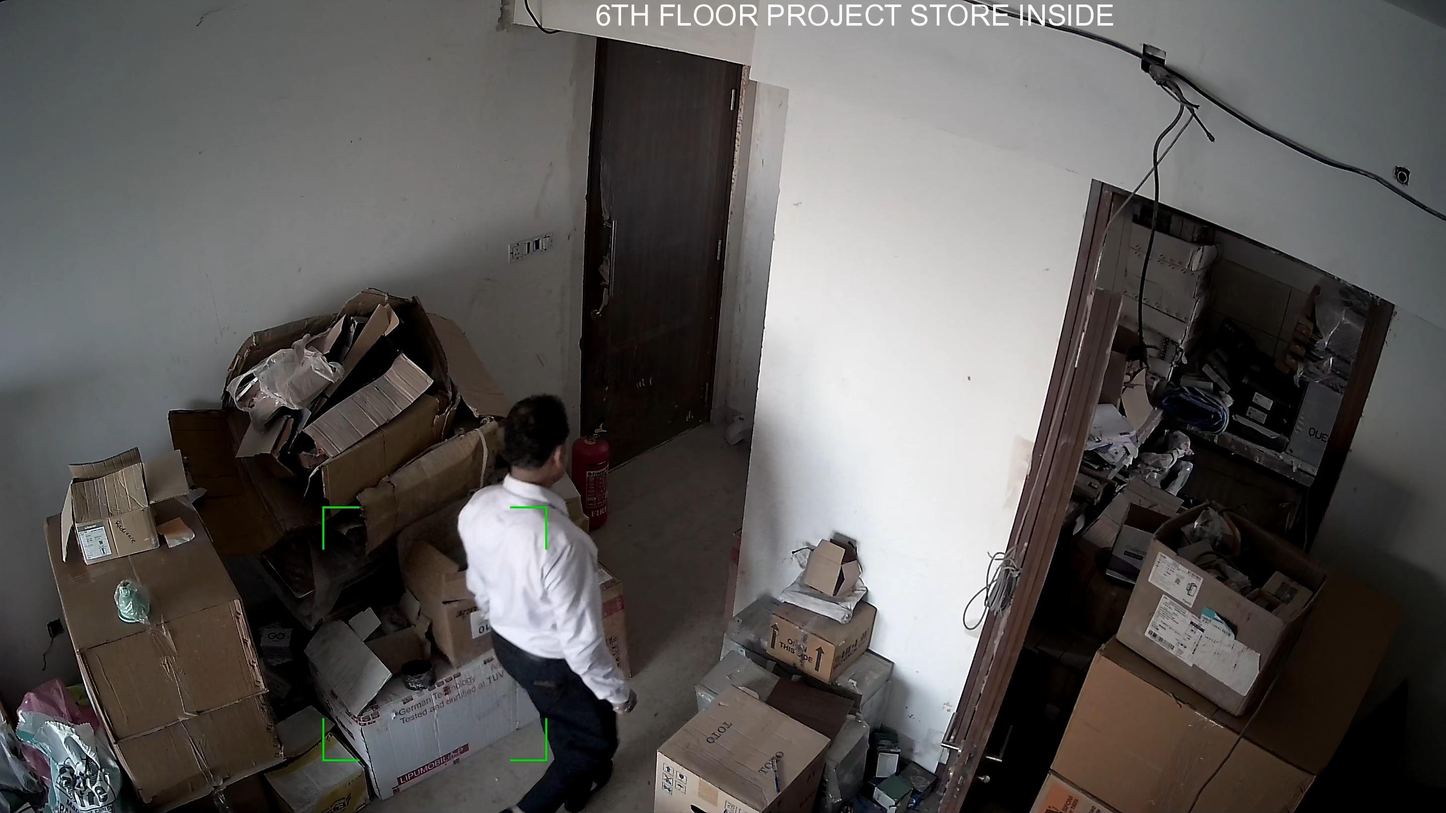Door-Close: (570, 33, 755, 456)
